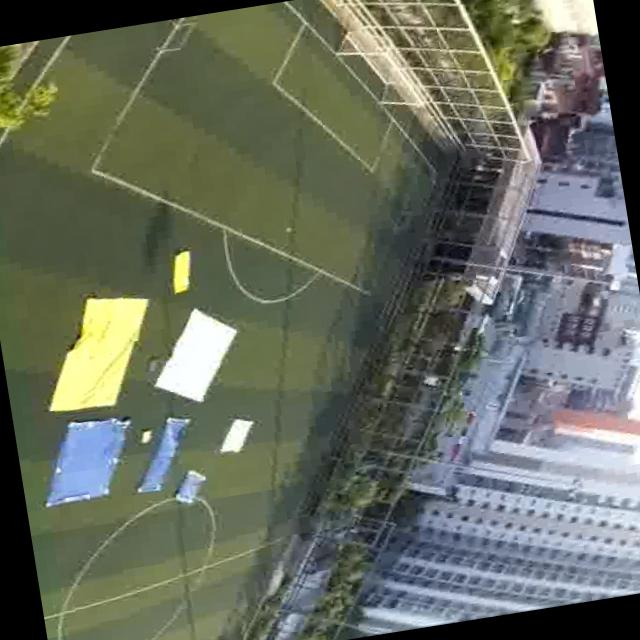danger: (32, 416, 131, 508), (148, 412, 198, 466), (170, 465, 212, 507)
safety: (147, 300, 245, 410), (210, 409, 264, 458)
warning: (27, 292, 137, 417), (162, 245, 201, 299)
